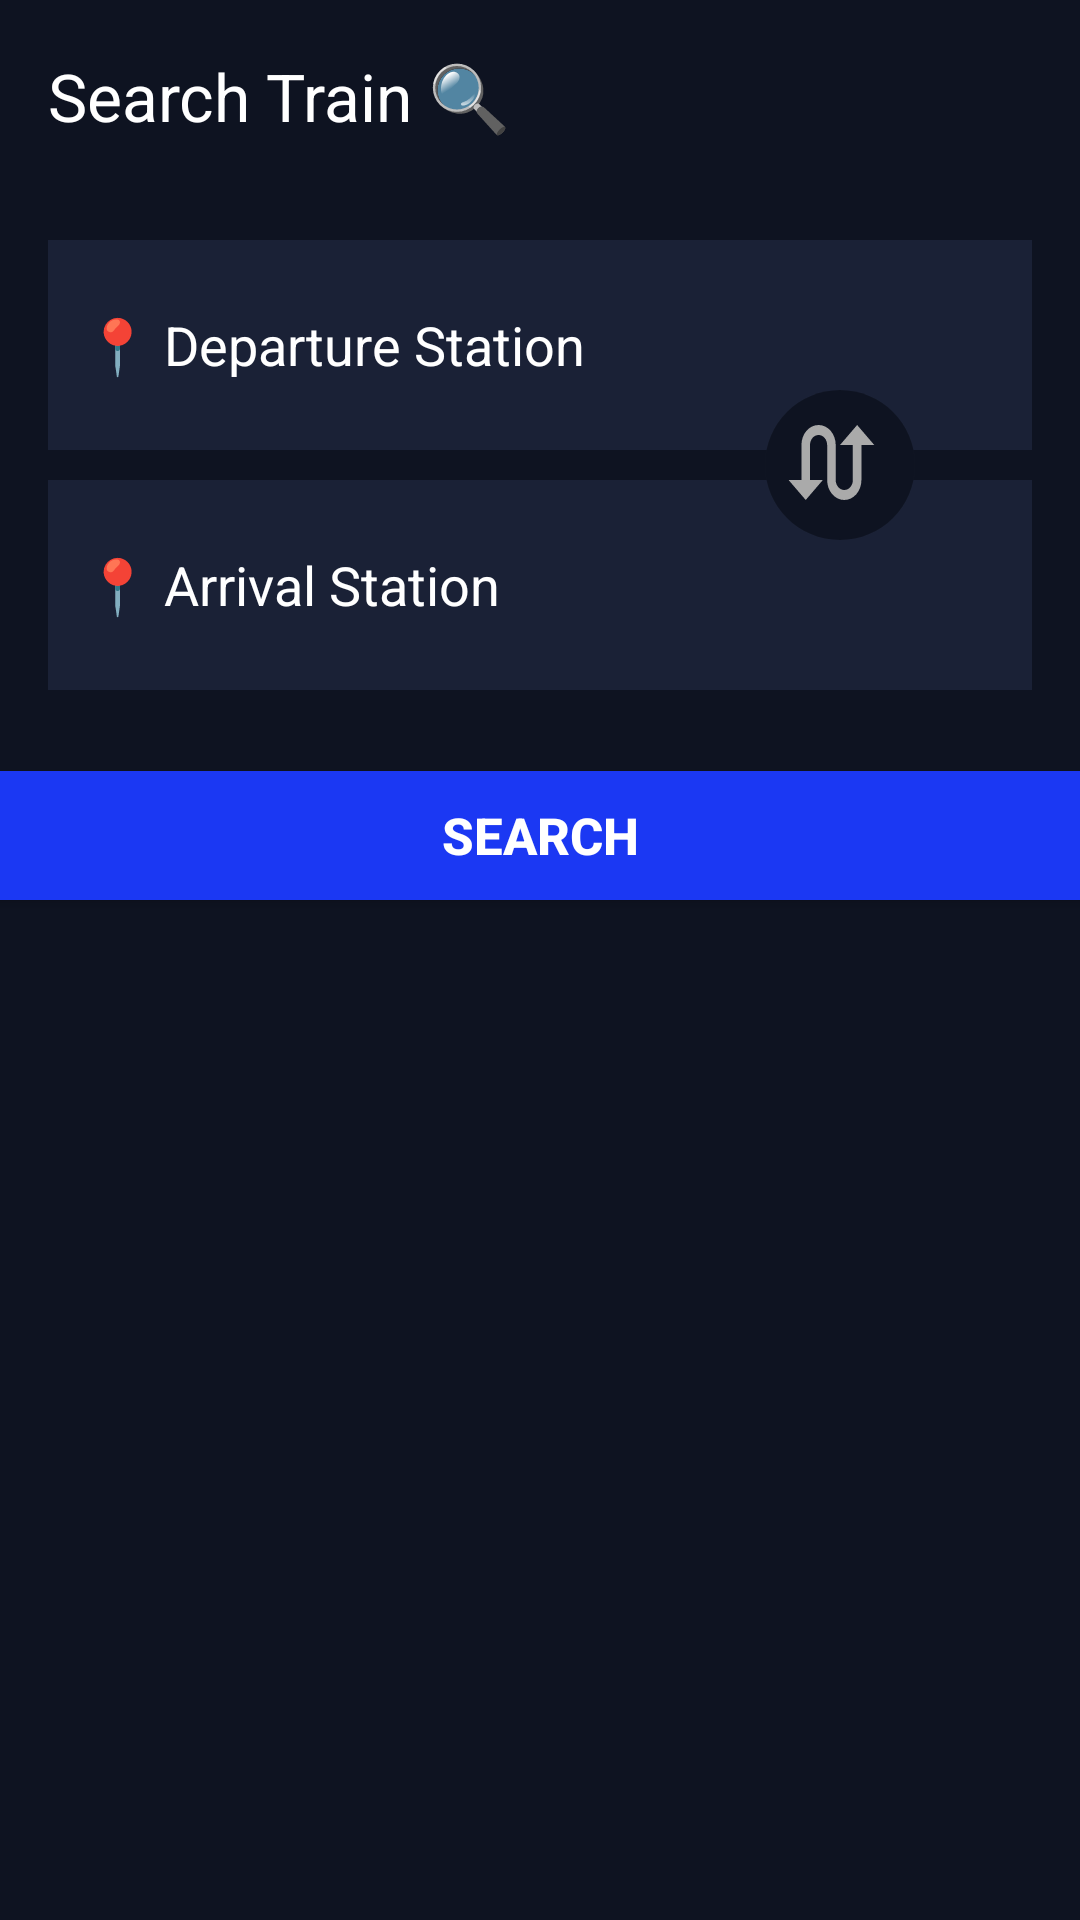

Icons on this 1080×1920 Android screen, each with its box as detection(x1, y1, x2, y2):
Swap Stations: detection(789, 425, 874, 500)
